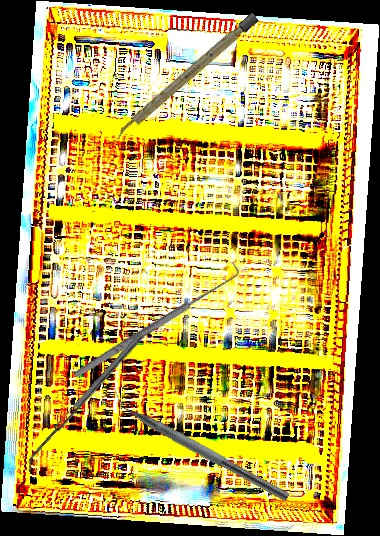Chopper: (102, 383, 297, 503)
Hook Surgical: (68, 262, 244, 381)
Scalpel Handle: (113, 12, 260, 141)
Spatula Surgical: (20, 333, 149, 473)
